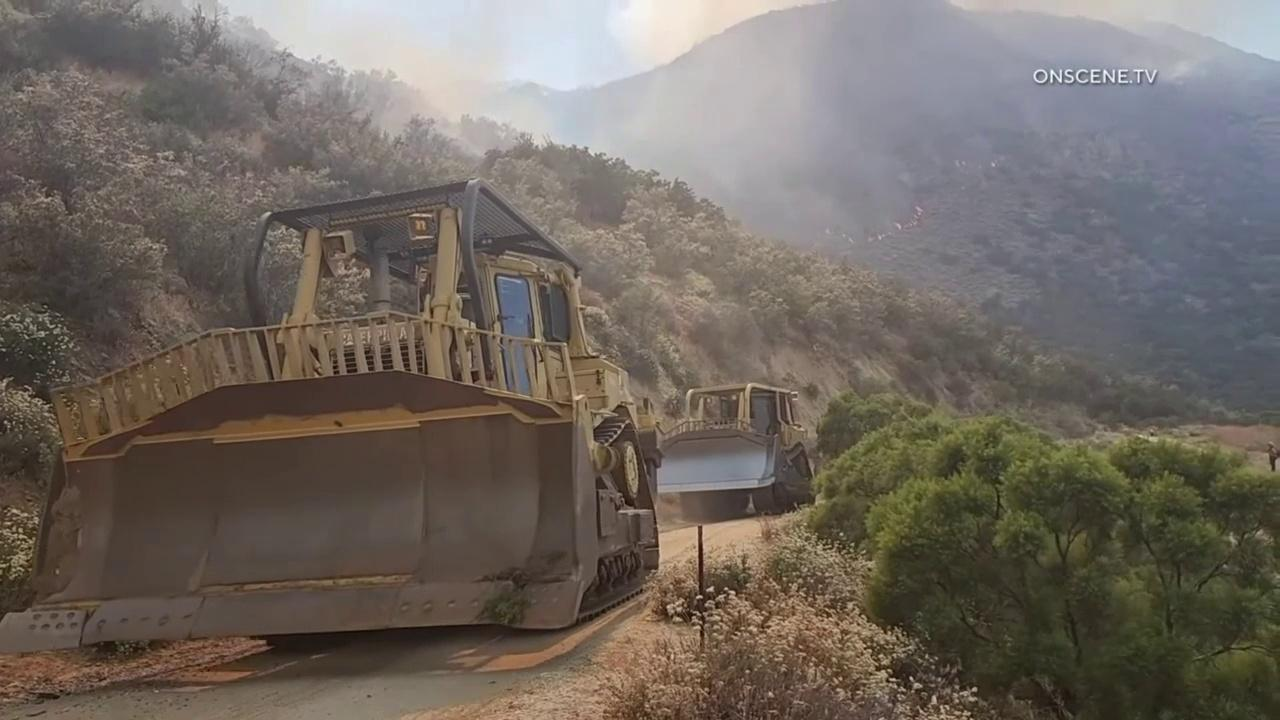fire: (904, 206, 924, 232), (954, 159, 967, 168), (878, 232, 887, 242), (866, 235, 875, 243), (848, 237, 856, 245), (824, 227, 832, 235), (895, 222, 902, 231), (991, 159, 998, 168)
smoke: (127, 0, 1280, 266)
